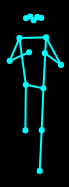mountain: (4, 11, 65, 175)
